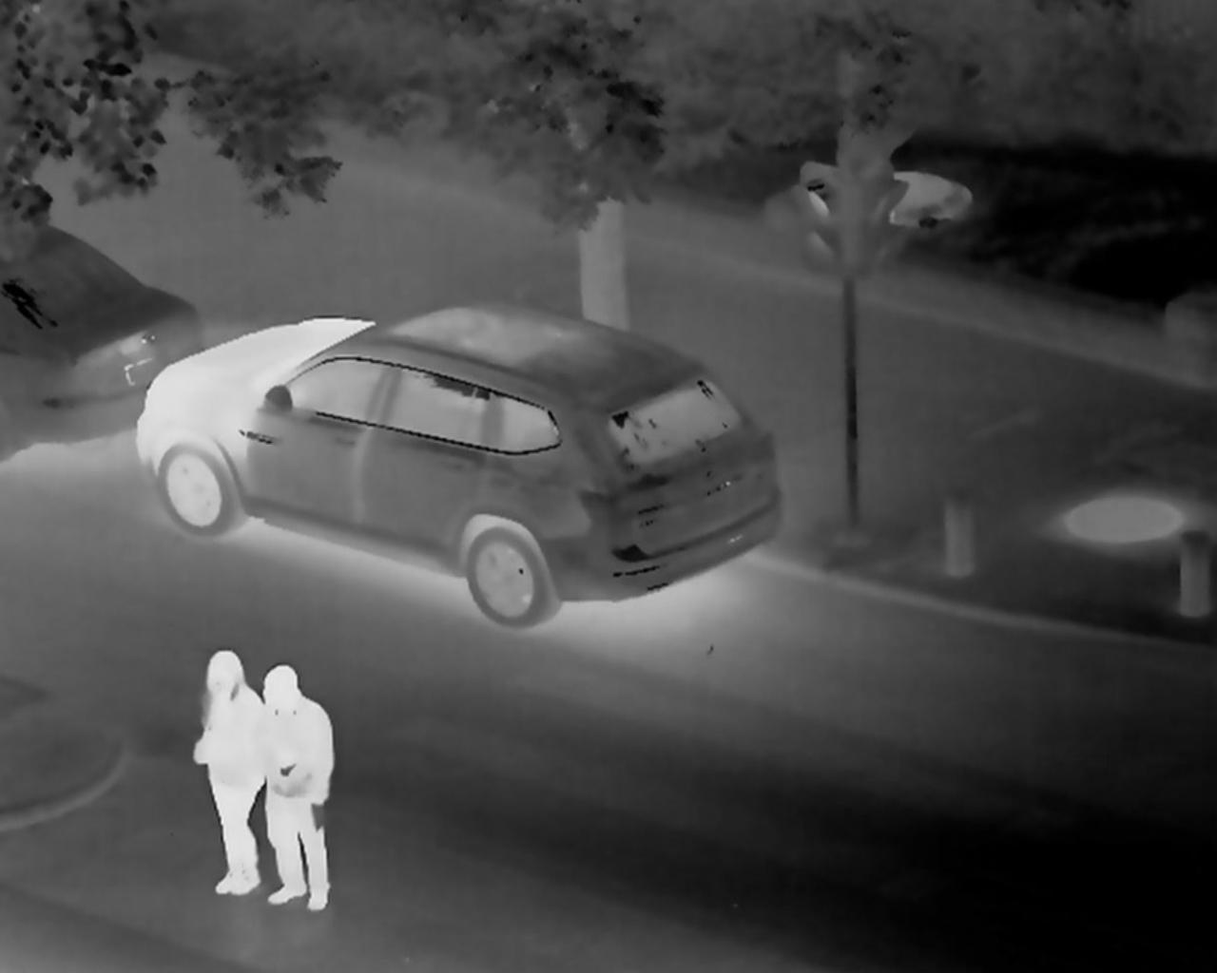person: (187, 646, 274, 899), (251, 666, 338, 912)
